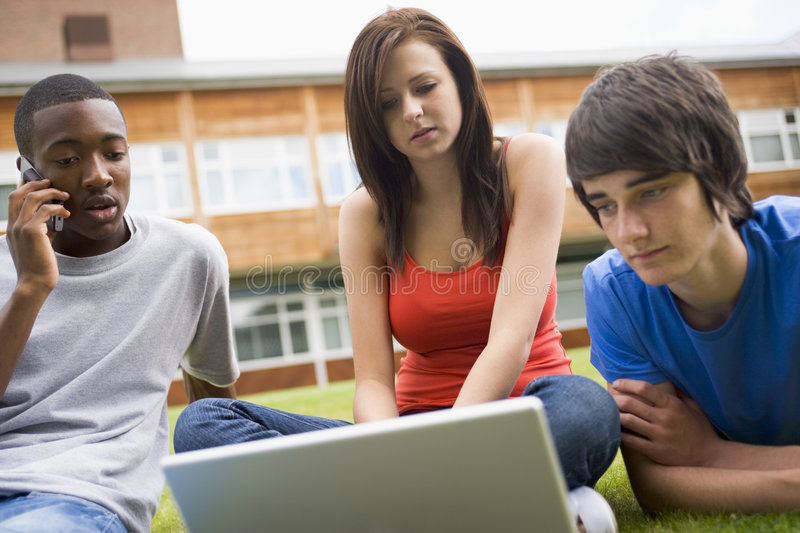Person: (565, 54, 800, 508), (340, 8, 564, 402), (1, 74, 175, 533)
